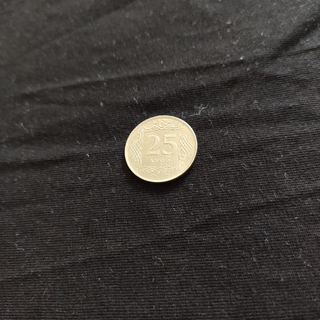25KURUS: (123, 113, 199, 184)
